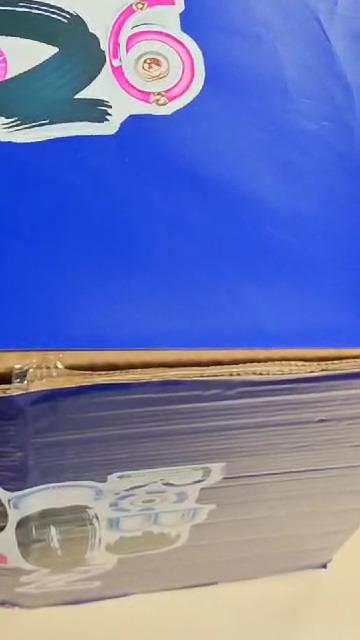B_R1: (0, 0, 328, 165)
